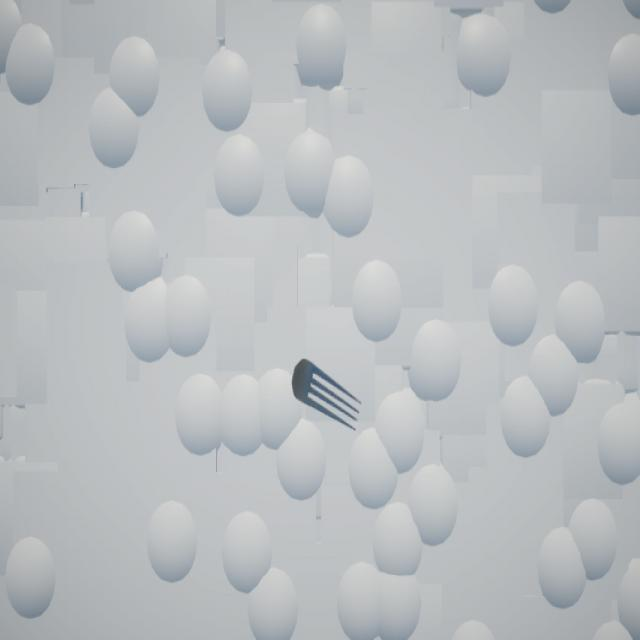top_folk: (292, 359, 363, 431)
